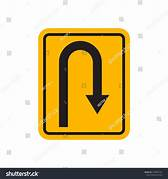back: (38, 27, 130, 140)
